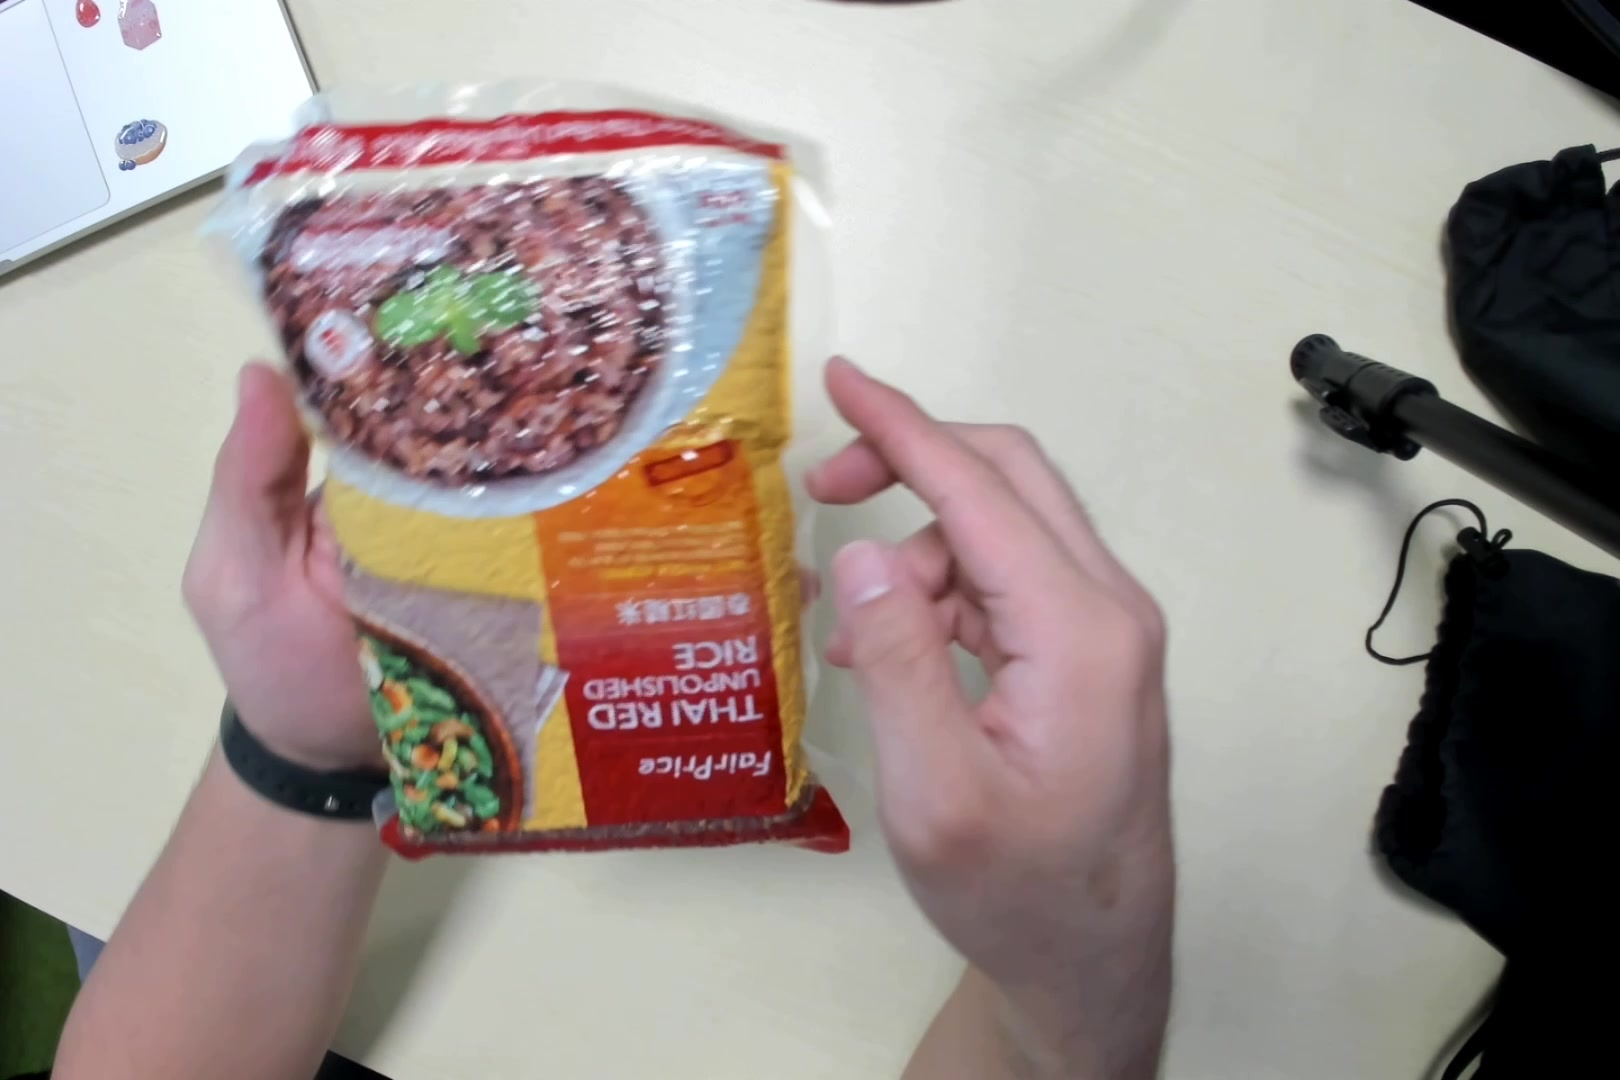Rice(BrownOthers)_500-599g_NonHalal_Healthy: (235, 106, 840, 861)
